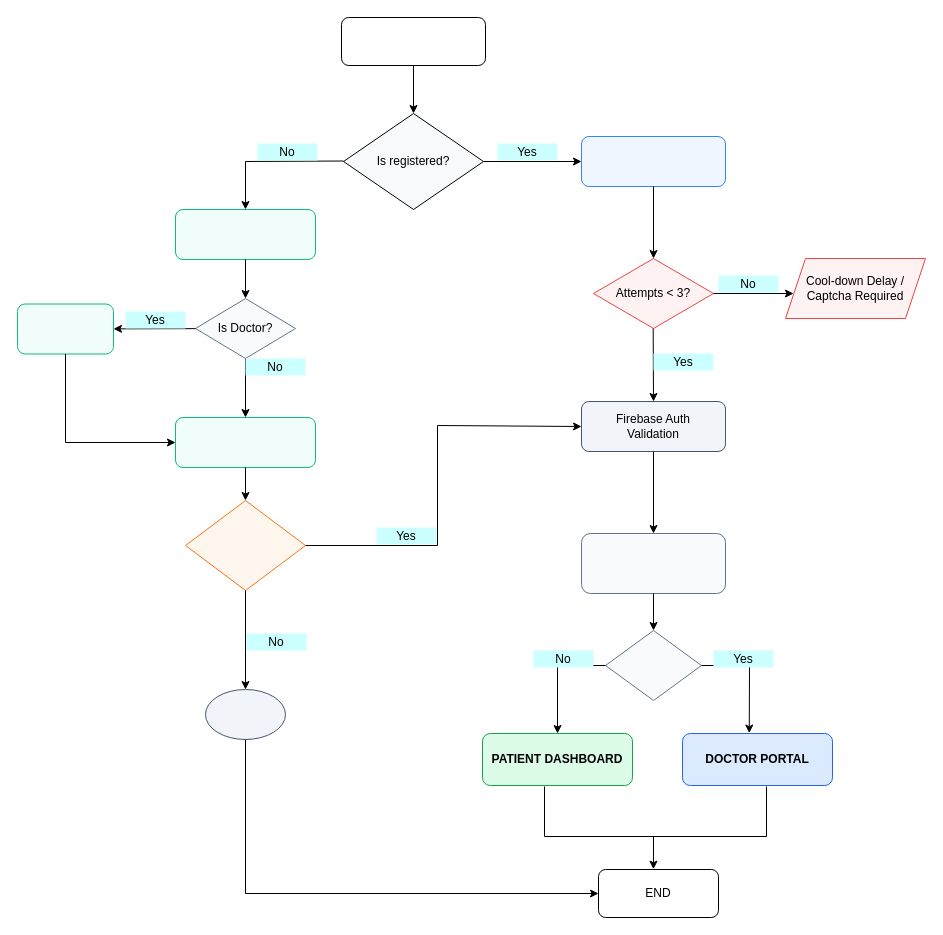
Image size: 943x935. Some labels were removed from this diagram. Here are the shapes that lost their labels. From the top down, the centre of each, then its label:
the point at 413,41: START: App Launch
the point at 653,161: Input Credentials
the point at 245,234: Select Role: Patient vs Doctor
the point at 65,328: Input SLMC ID
the point at 245,442: Fill Profile Details (Name, Email, Pass)
the point at 245,545: Agree to Privacy Policy & Terms?
the point at 653,563: Firestore Sync: Save/Fetch Role
the point at 653,665: IF Docter
the point at 245,714: EXIT / DENIED
